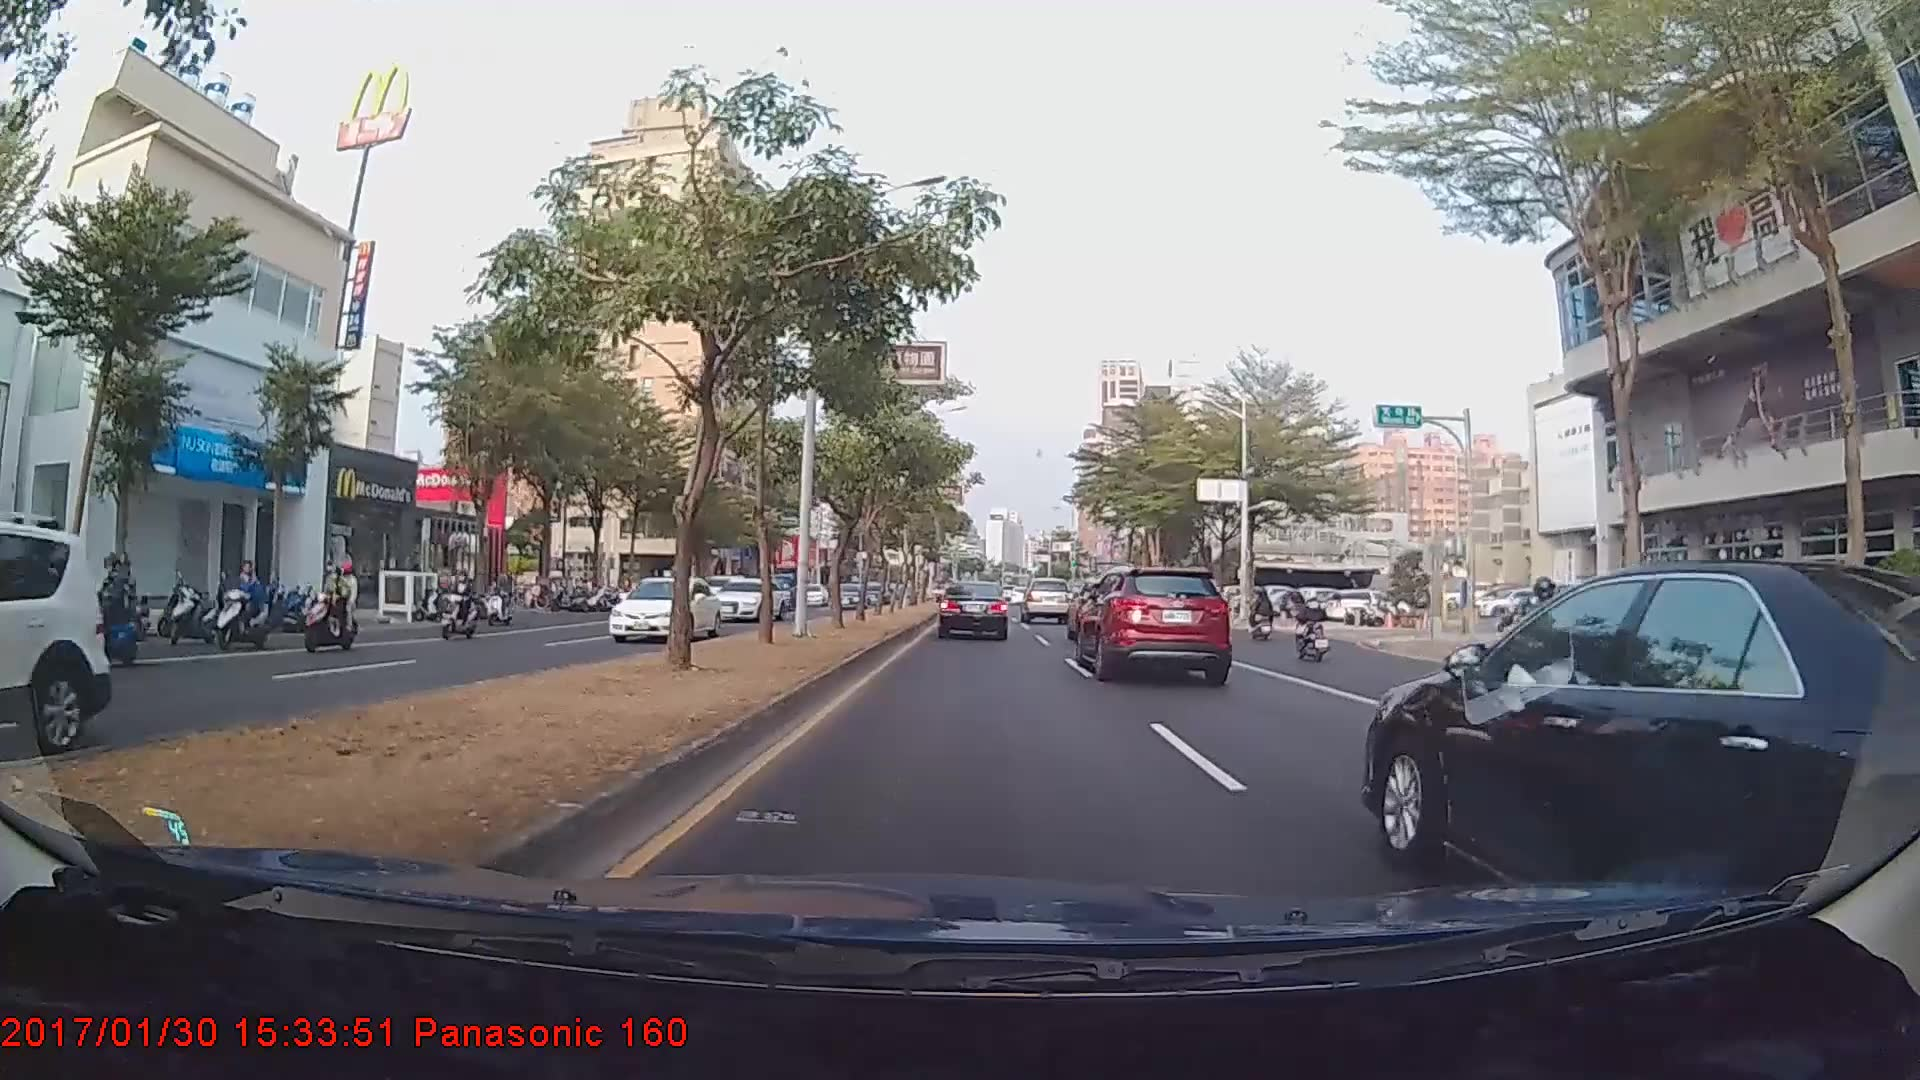rider: (1487, 572, 1603, 732), (206, 553, 282, 652), (295, 559, 362, 653), (1292, 586, 1336, 668)
vehicle: (1380, 556, 1918, 928), (0, 507, 118, 757), (1072, 565, 1231, 680), (604, 574, 721, 642), (937, 579, 1009, 641), (713, 573, 785, 623), (1019, 576, 1074, 625)
